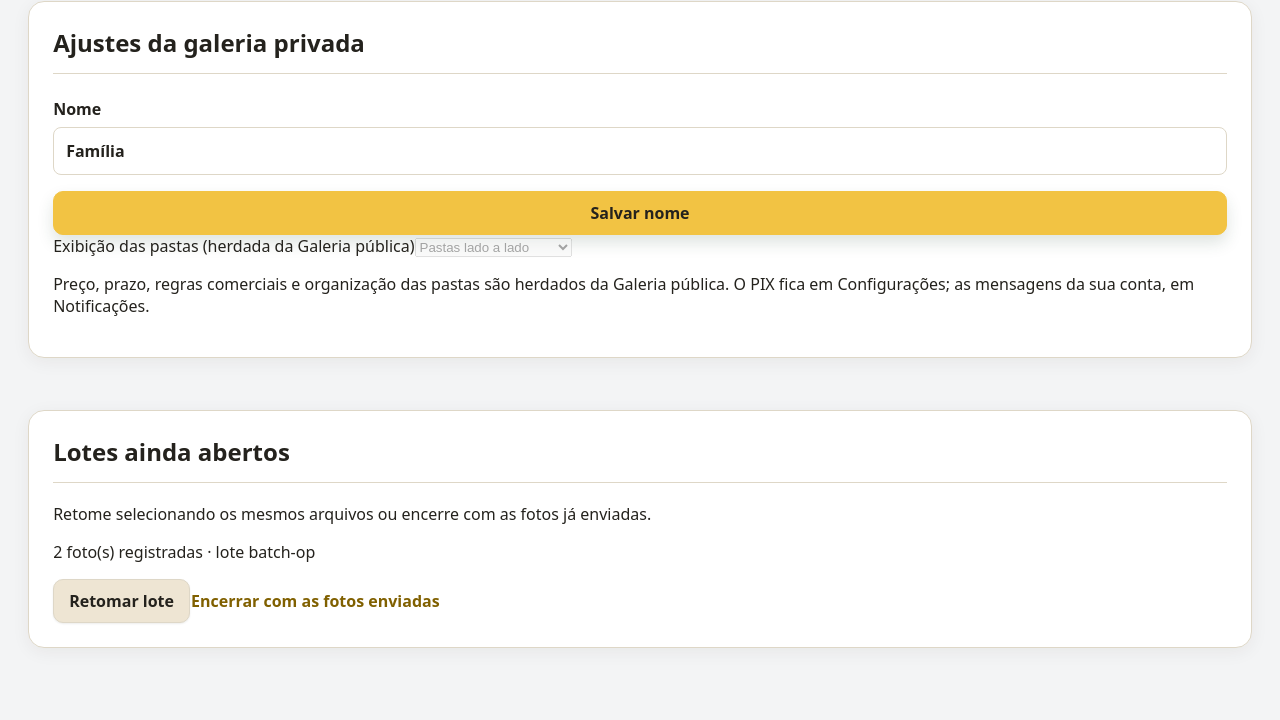
it: telas administrativas de galerias › recupera lote aberto após reload e permite encerramento parcial
The image size is (1280, 720).
(page scrolled)
Click the button "Retomar lote" at (122, 601), box [53, 579, 190, 623]
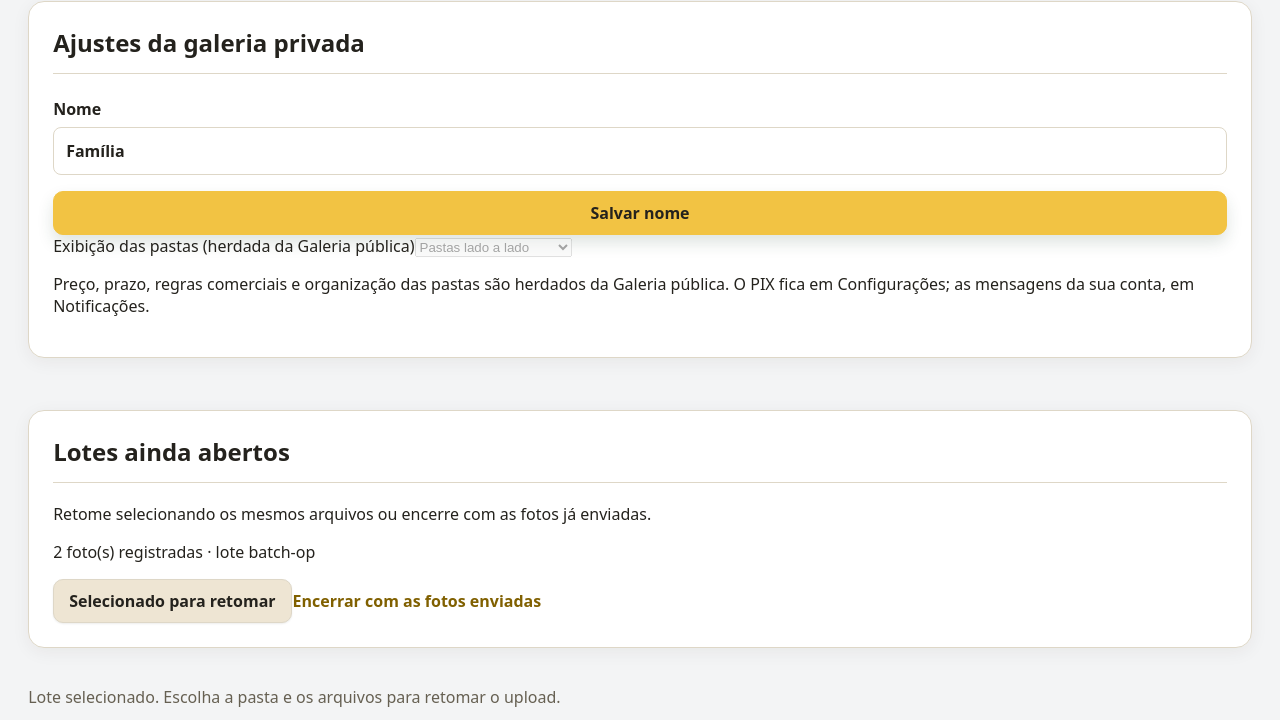
expect the button "Selecionado para retomar" is shown: met, box [53, 579, 292, 623]
Click the button "Encerrar com as fotos enviadas" at (417, 601), box [292, 579, 542, 623]
(page scrolled)
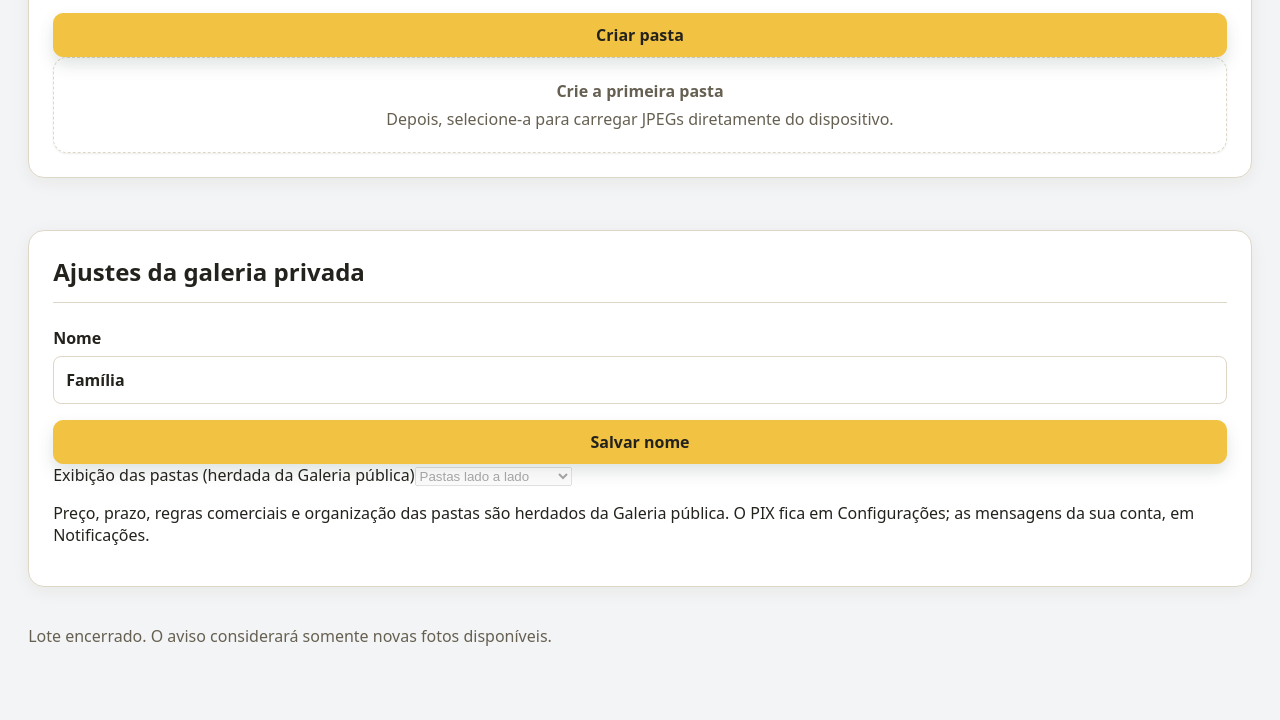
expect the heading "Lotes ainda abertos" is gone: met
